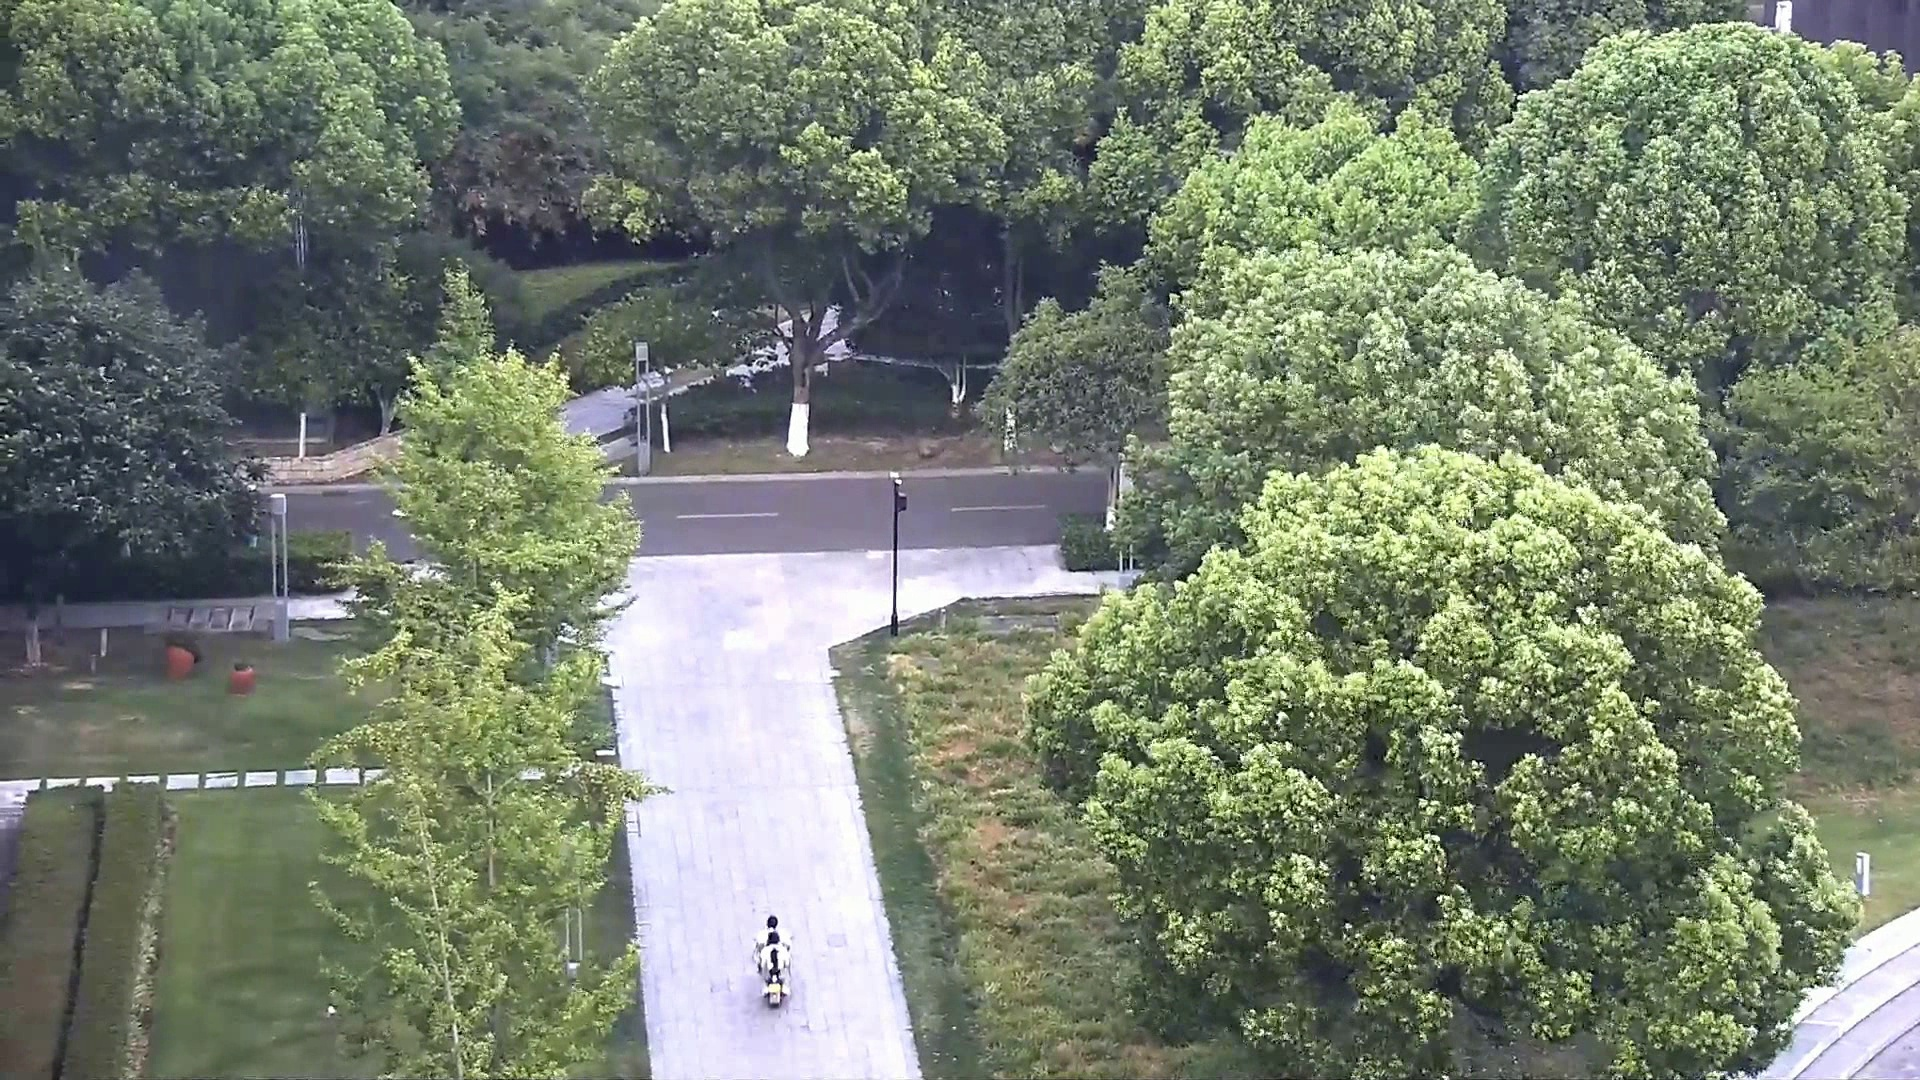person: (755, 913, 787, 975)
